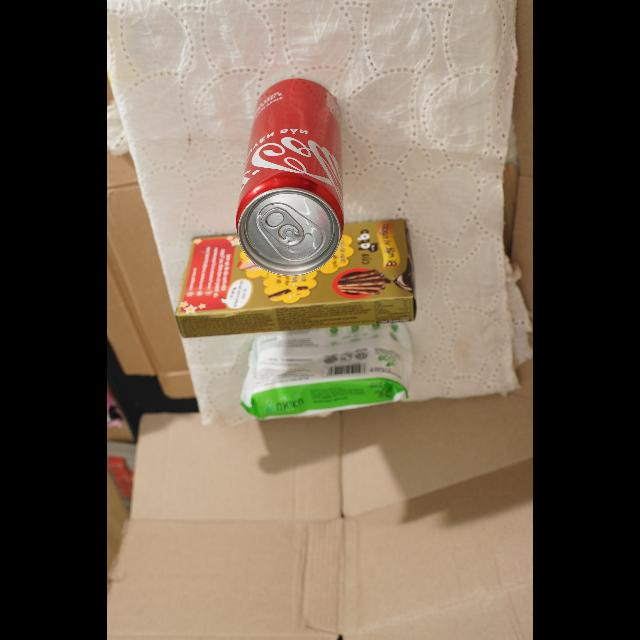banh_toppo_socola: (176, 220, 417, 338)
coca_cola: (236, 80, 344, 275)
khan_giay: (241, 323, 413, 419)
